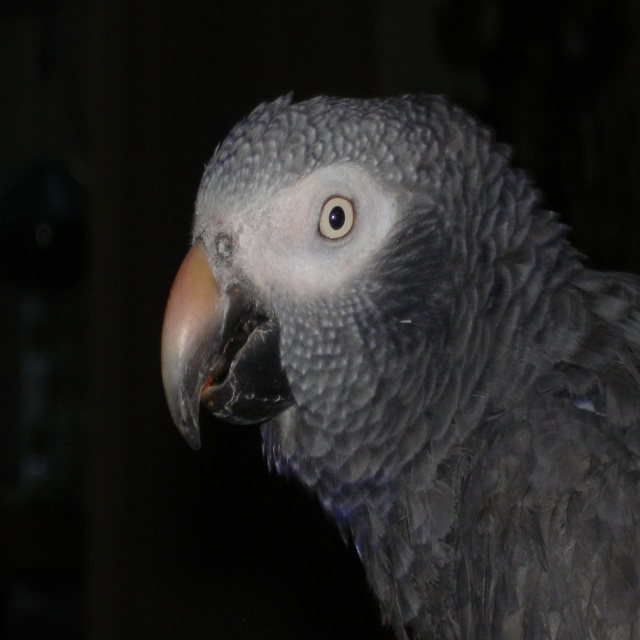Parrot: (161, 94, 640, 640)
